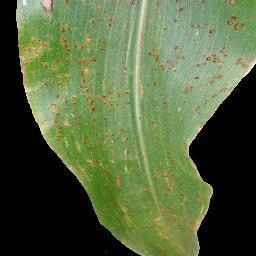Corn_Common_Rust: (138, 0, 256, 256), (13, 0, 132, 190)
